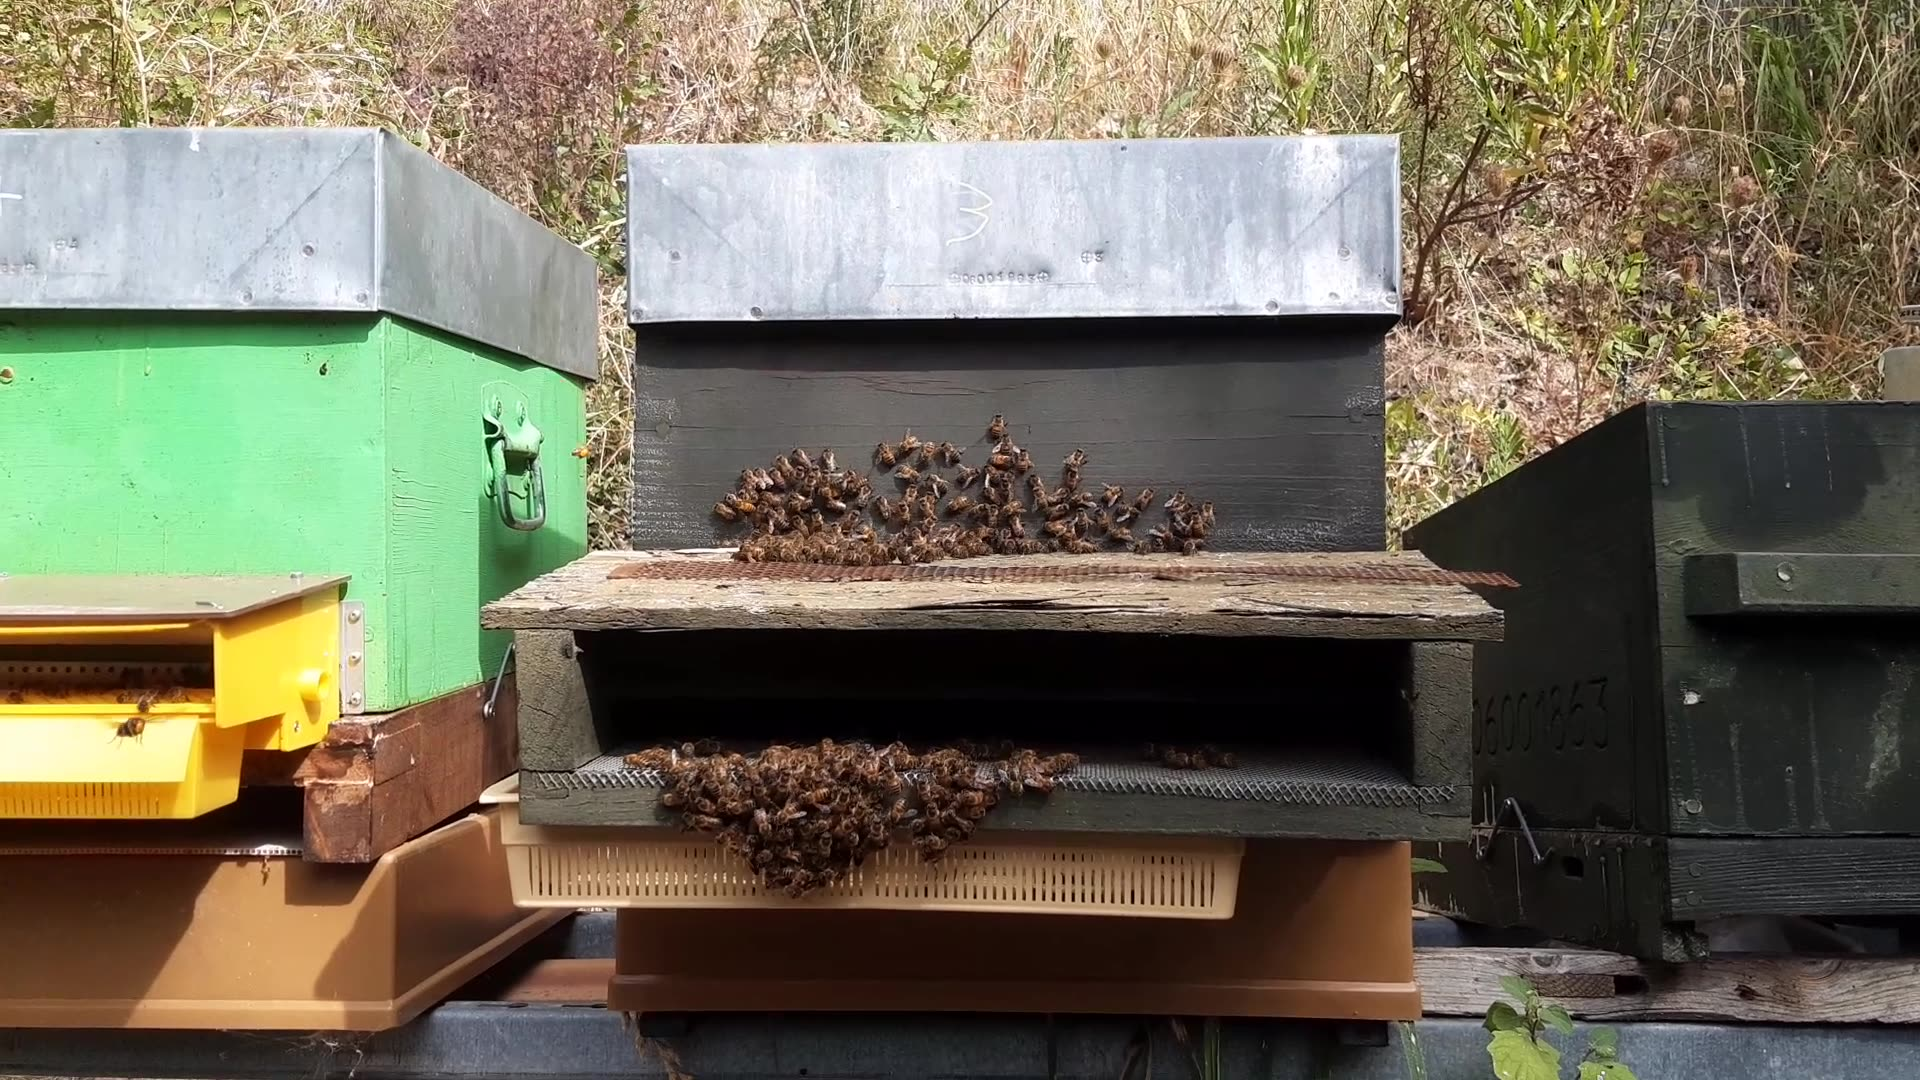bee: (901, 815, 977, 886), (1139, 495, 1220, 555), (810, 728, 899, 781), (632, 746, 713, 802), (959, 506, 1036, 564), (716, 500, 804, 549), (1036, 502, 1102, 560), (942, 447, 1006, 505), (727, 736, 818, 775), (858, 513, 928, 560), (733, 465, 802, 512), (959, 431, 1019, 481), (1021, 465, 1067, 520), (851, 459, 913, 496)
